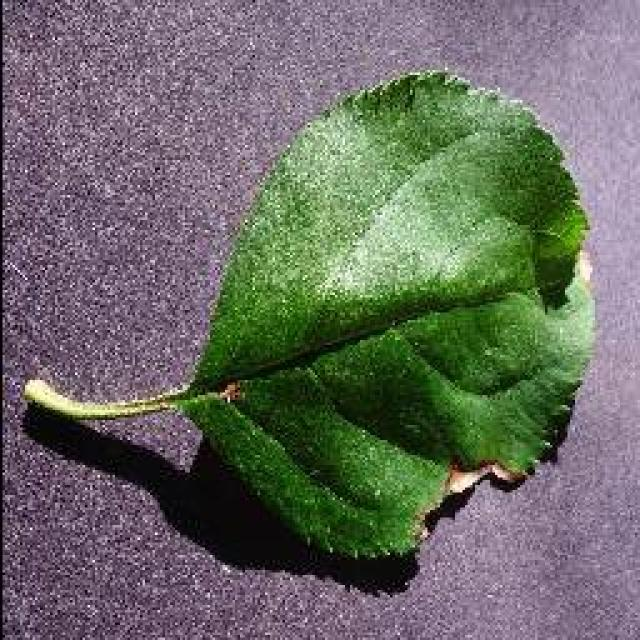apple black rot: (20, 65, 598, 565)
